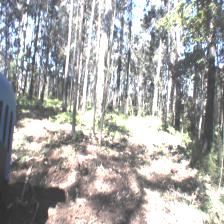trunktrack_idkeyframe: (201, 78, 216, 152), (72, 70, 79, 138), (98, 92, 107, 144), (63, 62, 69, 112)
